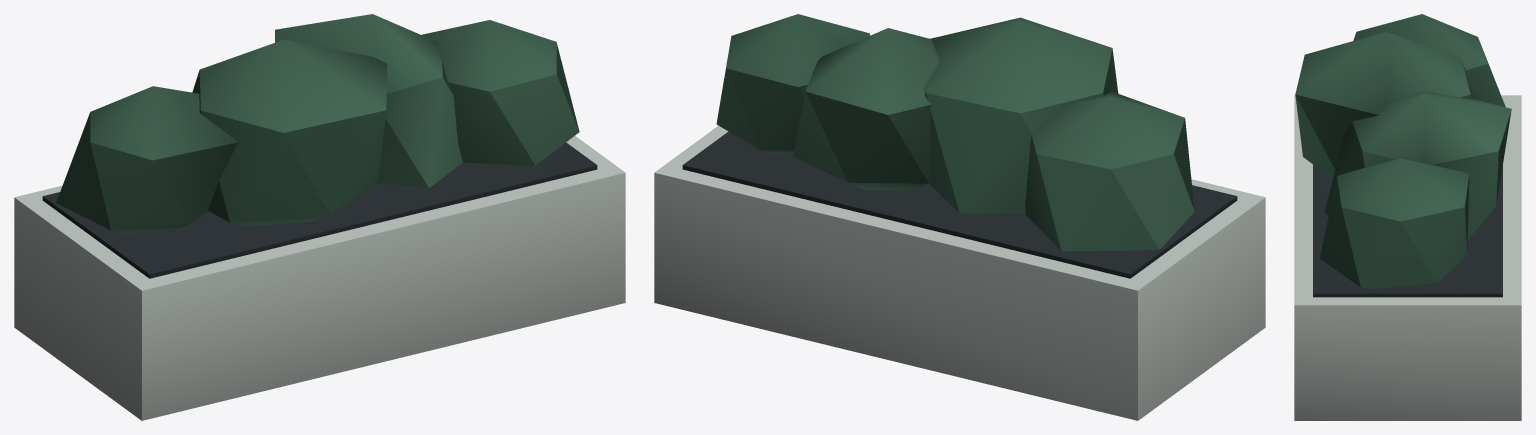
Rendered from planter.lod2.glb.
The picture shows the model from 3 angles, left to right: view 1: azimuth 30°, elevation 25°; view 2: azimuth 150°, elevation 25°; view 3: azimuth 270°, elevation 25°; orthographic projection. The views are drawn at different scales.
Parts seen in each view (by area): view 1: structure; view 2: structure; view 3: structure.
Part boxes in pixels (box(x1,y1,x2,y2)): structure: box(14, 14, 625, 420); structure: box(654, 14, 1265, 420); structure: box(1294, 14, 1521, 420).
Size of the model in its own units: 3.5 by 2.05 by 1.6.
